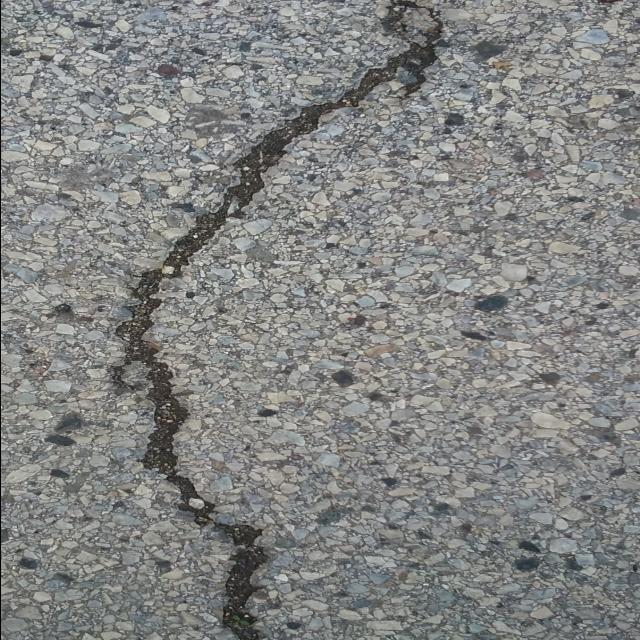Crack: (103, 0, 440, 640)
